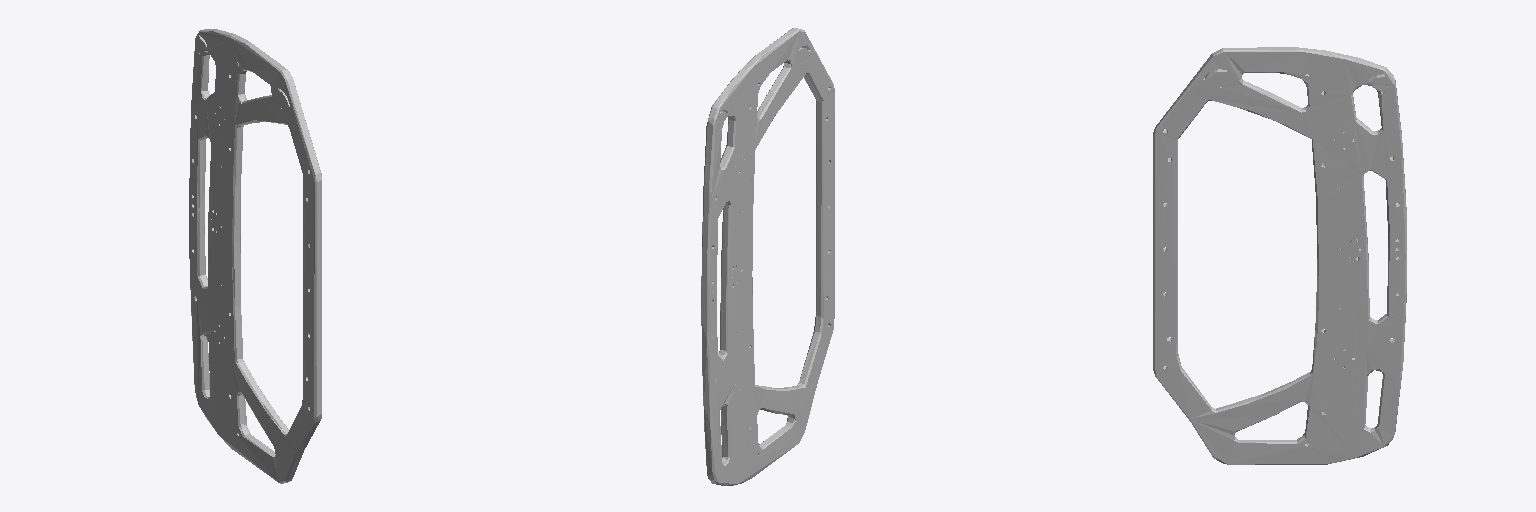
File: left_side.obj
The picture shows the model from 3 angles: view 1: azimuth 30°, elevation 25°; view 2: azimuth 150°, elevation 25°; view 3: azimuth 270°, elevation 25°; orthographic projection.
Visible parts, largest first — view 1: left_side; view 2: left_side; view 3: left_side.
Part boxes in pixels (x1,y1,x2,y2): left_side: (189,29,321,483); left_side: (701,28,834,485); left_side: (1153,47,1406,464).
Bounding box in the file's own units: 0.0098 × 0.4565 × 0.2535.